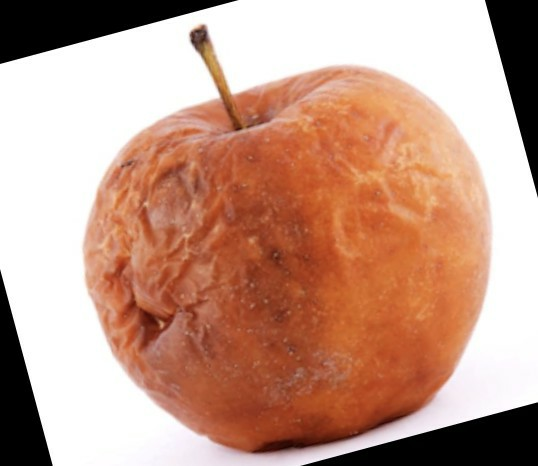rotten_apple: (82, 64, 491, 452)
